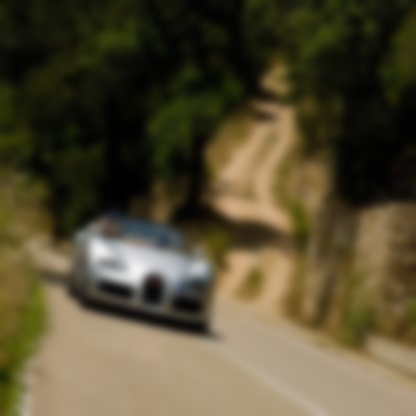Vehicle: (66, 214, 216, 332)
